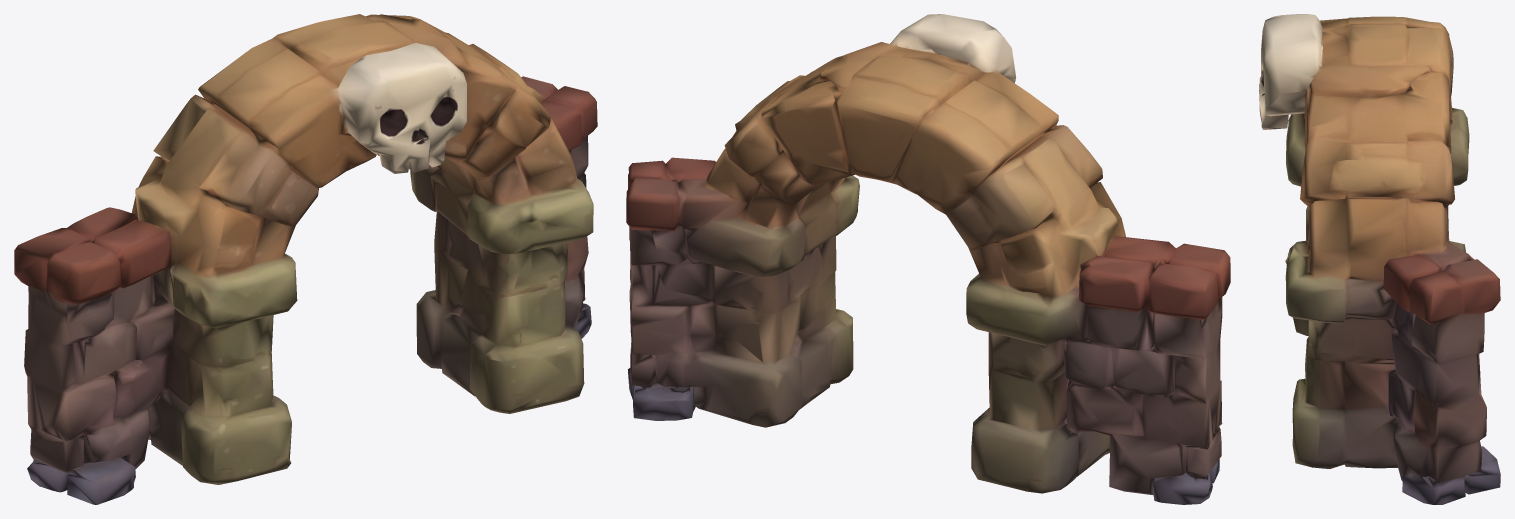
The model's file is cr_arch_wide-B7ZS2Pzn.glb.
The picture shows the model from 3 angles, left to right: view 1: azimuth 30°, elevation 25°; view 2: azimuth 150°, elevation 25°; view 3: azimuth 270°, elevation 25°; orthographic projection. The views are drawn at different scales.
Parts seen in each view (by area): view 1: tripo_node_a8e50a79-d01b-423d-90dd-fd35d711f78e; view 2: tripo_node_a8e50a79-d01b-423d-90dd-fd35d711f78e; view 3: tripo_node_a8e50a79-d01b-423d-90dd-fd35d711f78e.
Boxes of the visible parts, x1,y1,x2,y2 form: tripo_node_a8e50a79-d01b-423d-90dd-fd35d711f78e: (14,14,597,504); tripo_node_a8e50a79-d01b-423d-90dd-fd35d711f78e: (626,14,1230,504); tripo_node_a8e50a79-d01b-423d-90dd-fd35d711f78e: (1259,14,1500,504).
Bounding box in the file's own units: 8 × 5 × 3.03.
Materials: 1 (1 with a texture image).
